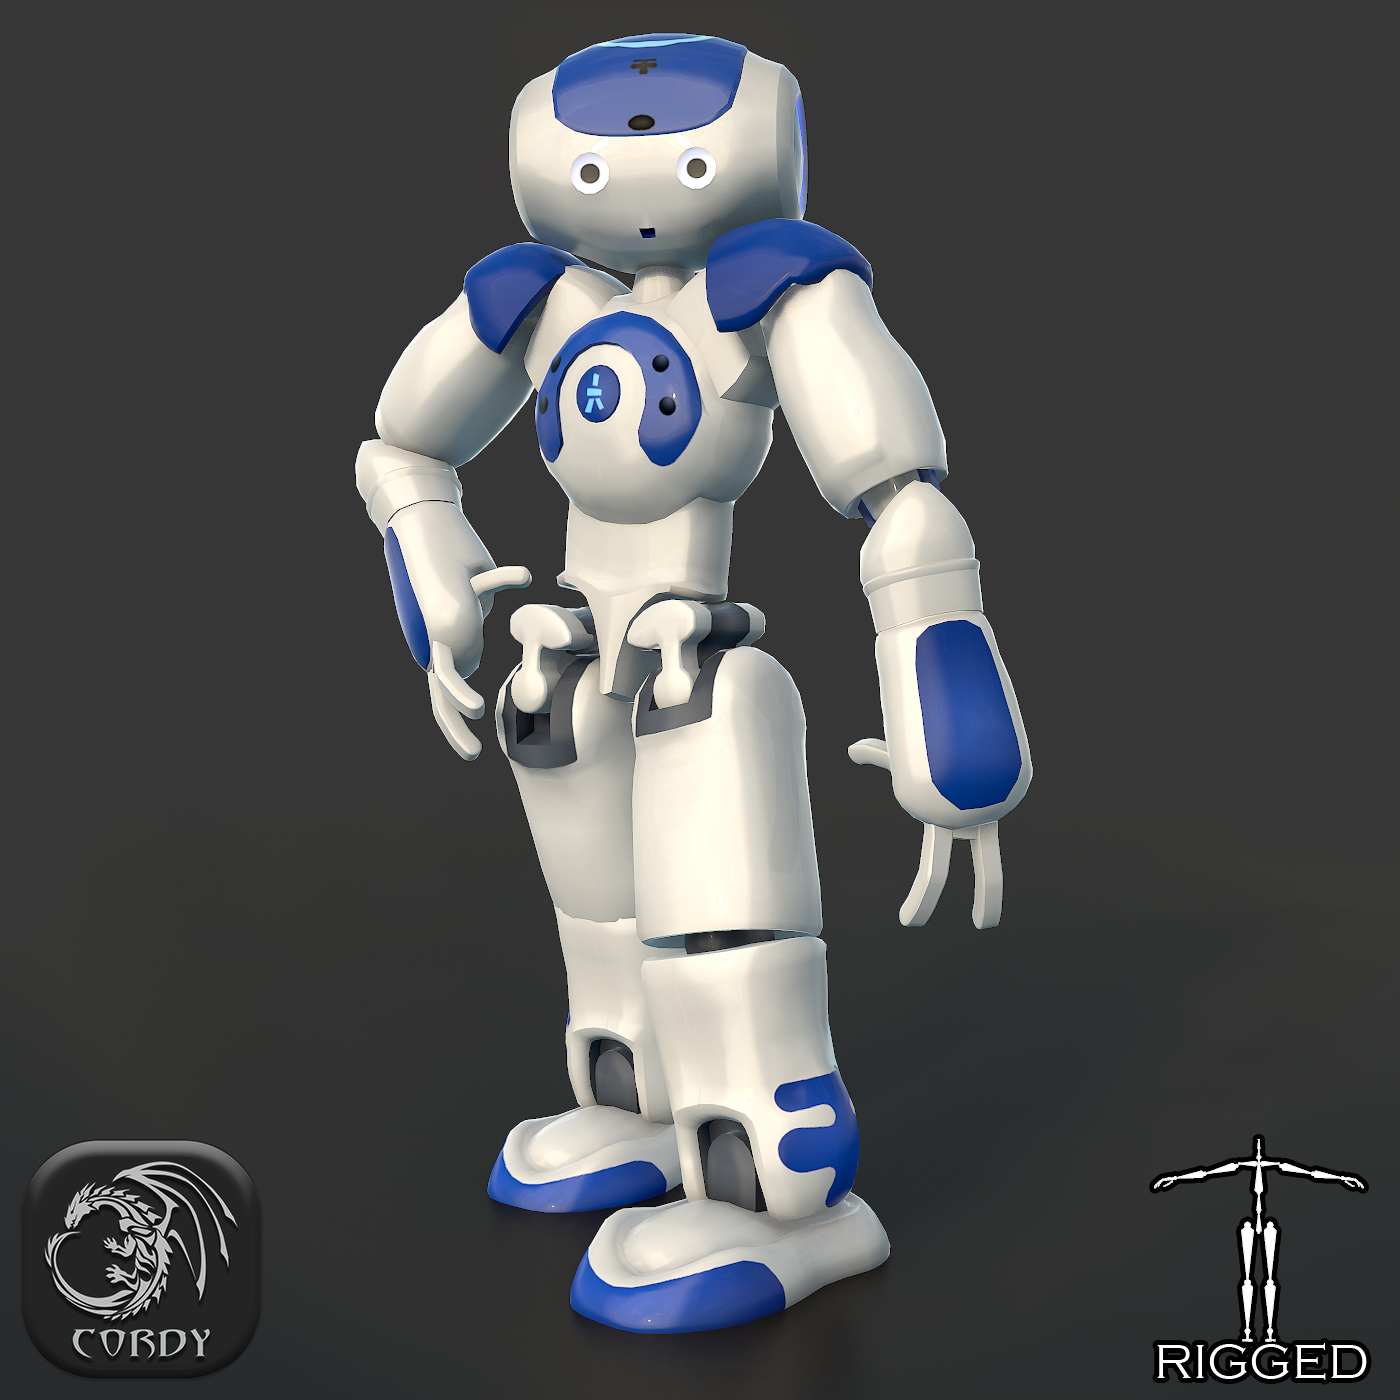nao: (329, 15, 1079, 1353)
